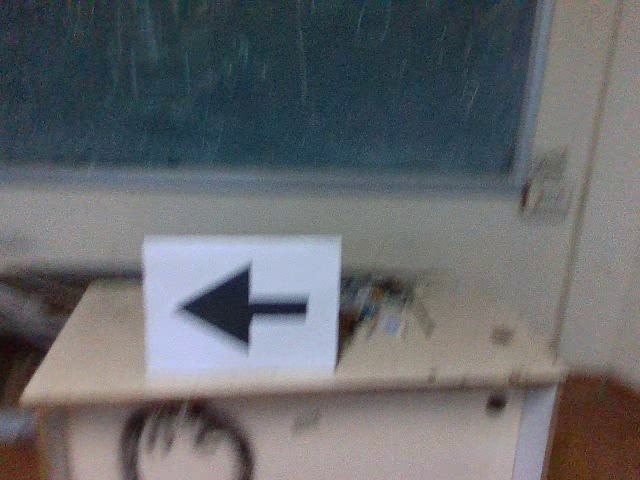Left: (170, 254, 314, 353)
